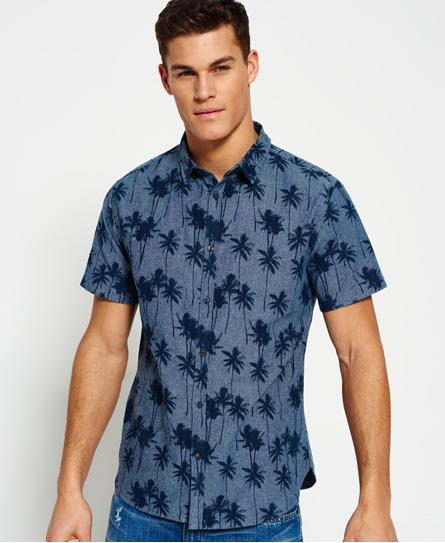teeshirt: (84, 115, 390, 523)
